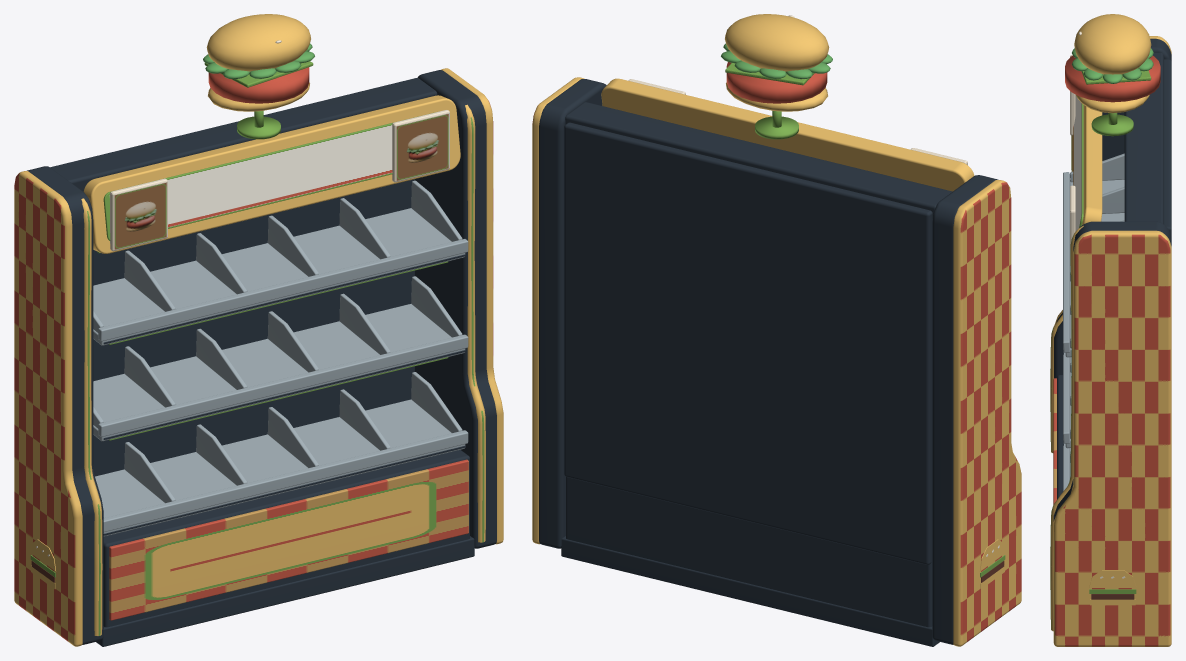
File: TH_FOOD.fbx
3 views of the same model, side by side, from view 1: azimuth 30°, elevation 25°; view 2: azimuth 150°, elevation 25°; view 3: azimuth 270°, elevation 25° (orthographic). The views are drawn at different scales.
Parts seen in each view (by area): view 1: BaseFrontInset, Left_PaintedPanel, BackPanel.001, Right_StructuralWall, Tray_02, Tray_01, Tray_03, HeaderFace, HeaderBorder, Left_StructuralWall, TopCrossRail, ClosedSolidBase (+35 smaller); view 2: BackPanel.001, Left_PaintedPanel, ClosedSolidBase, Right_StructuralWall, HeaderBorder, Left_StructuralWall, TopCrossRail, LowerPlinth, Toasted top bun, Right_PaintedPanel, Burger patty, Lower bun (+1 smaller); view 3: Right_PaintedPanel, TopCrossRail, Toasted top bun, HeaderBorder, Burger patty, BackPanel.001, FrontLip_01, Left_StructuralWall, RightHousing, HeaderFace, Right_StructuralWall, ClosedSolidBase (+17 smaller).
Part boxes in pixels (x1=…): BaseFrontInset: x1=109, y1=459, x2=468, y2=620; Left_PaintedPanel: x1=14, y1=171, x2=82, y2=646; BackPanel.001: x1=93, y1=179, x2=414, y2=476; Right_StructuralWall: x1=415, y1=70, x2=496, y2=548; Tray_02: x1=93, y1=304, x2=465, y2=441; Tray_01: x1=93, y1=208, x2=465, y2=345; Tray_03: x1=95, y1=399, x2=465, y2=536; HeaderFace: x1=103, y1=112, x2=433, y2=240; HeaderBorder: x1=83, y1=95, x2=460, y2=253; Left_StructuralWall: x1=27, y1=166, x2=103, y2=644; TopCrossRail: x1=50, y1=78, x2=437, y2=191; ClosedSolidBase: x1=103, y1=450, x2=469, y2=627; BackPanel.001: x1=564, y1=122, x2=932, y2=564; Left_PaintedPanel: x1=953, y1=180, x2=1021, y2=646; ClosedSolidBase: x1=566, y1=477, x2=932, y2=627; Right_StructuralWall: x1=539, y1=79, x2=606, y2=548; HeaderBorder: x1=601, y1=78, x2=974, y2=191; Left_StructuralWall: x1=932, y1=175, x2=998, y2=644; TopCrossRail: x1=565, y1=102, x2=952, y2=218; LowerPlinth: x1=561, y1=536, x2=939, y2=646; Toasted top bun: x1=725, y1=14, x2=829, y2=71; Right_PaintedPanel: x1=532, y1=77, x2=584, y2=544; Burger patty: x1=726, y1=62, x2=827, y2=103; Lower bun: x1=726, y1=82, x2=827, y2=111; Right_PaintedPanel: x1=1053, y1=230, x2=1171, y2=646; TopCrossRail: x1=1124, y1=52, x2=1163, y2=223; Toasted top bun: x1=1074, y1=14, x2=1151, y2=74; HeaderBorder: x1=1082, y1=105, x2=1102, y2=224; Burger patty: x1=1065, y1=55, x2=1160, y2=102; BackPanel.001: x1=1164, y1=59, x2=1171, y2=236; FrontLip_01: x1=1063, y1=172, x2=1070, y2=352; Left_StructuralWall: x1=1054, y1=38, x2=1171, y2=378; RightHousing: x1=1050, y1=225, x2=1083, y2=631; HeaderFace: x1=1073, y1=95, x2=1083, y2=230; Right_StructuralWall: x1=1053, y1=221, x2=1171, y2=521; ClosedSolidBase: x1=1057, y1=375, x2=1062, y2=499.
Bounding box in the file's own units: 3.62 × 4.47 × 0.9273.
